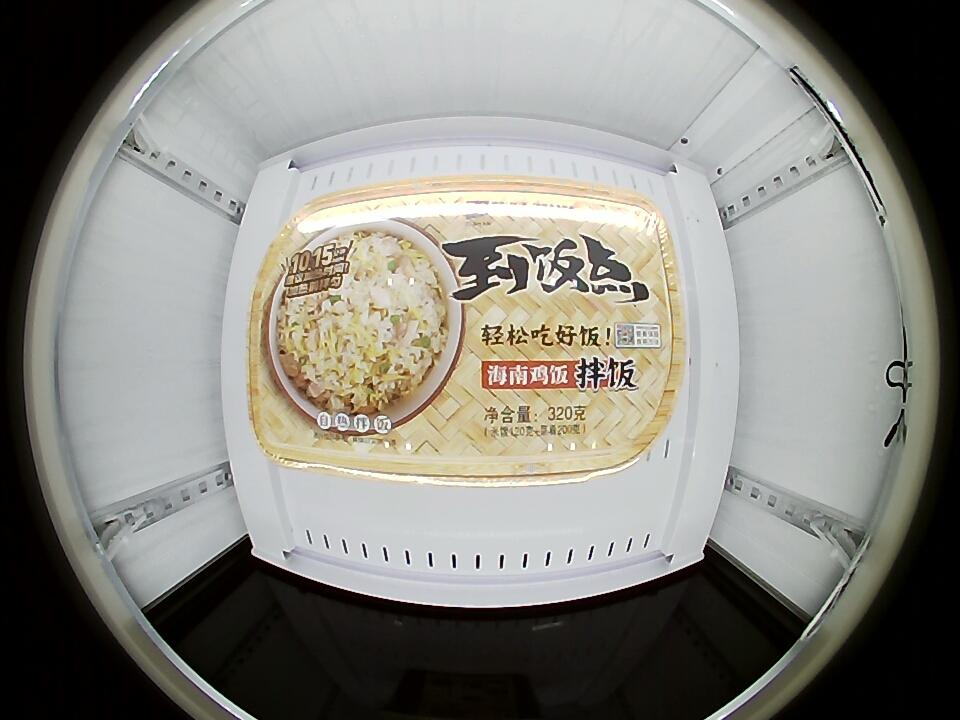daofandian1: (243, 178, 688, 487)
